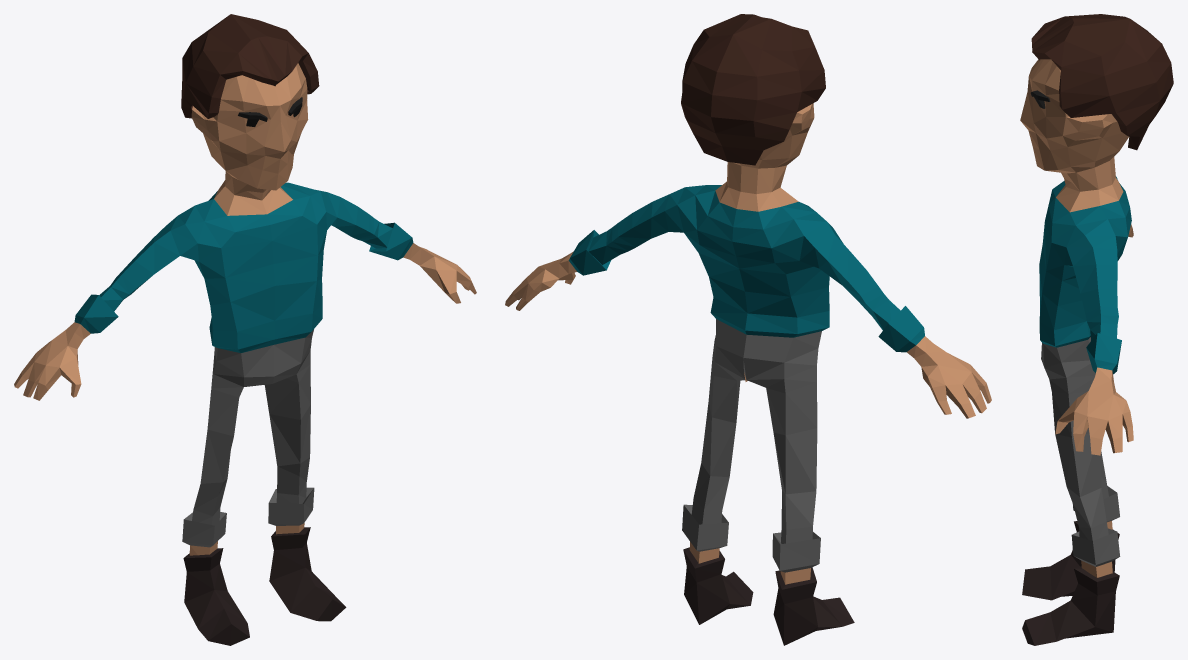
The model's file is man_02.fbx.
3 renders of one model, left to right at view 1: azimuth 30°, elevation 25°; view 2: azimuth 150°, elevation 25°; view 3: azimuth 270°, elevation 25°, orthographic. The views are drawn at different scales.
Visible parts, largest first — view 1: чел.004; view 2: чел.004; view 3: чел.004.
Part boxes in pixels (x1=…): чел.004: x1=14, y1=14, x2=476, y2=645; чел.004: x1=505, y1=14, x2=991, y2=645; чел.004: x1=1020, y1=14, x2=1173, y2=645.
Bounding box in the file's own units: 200 × 249 × 57.76.
